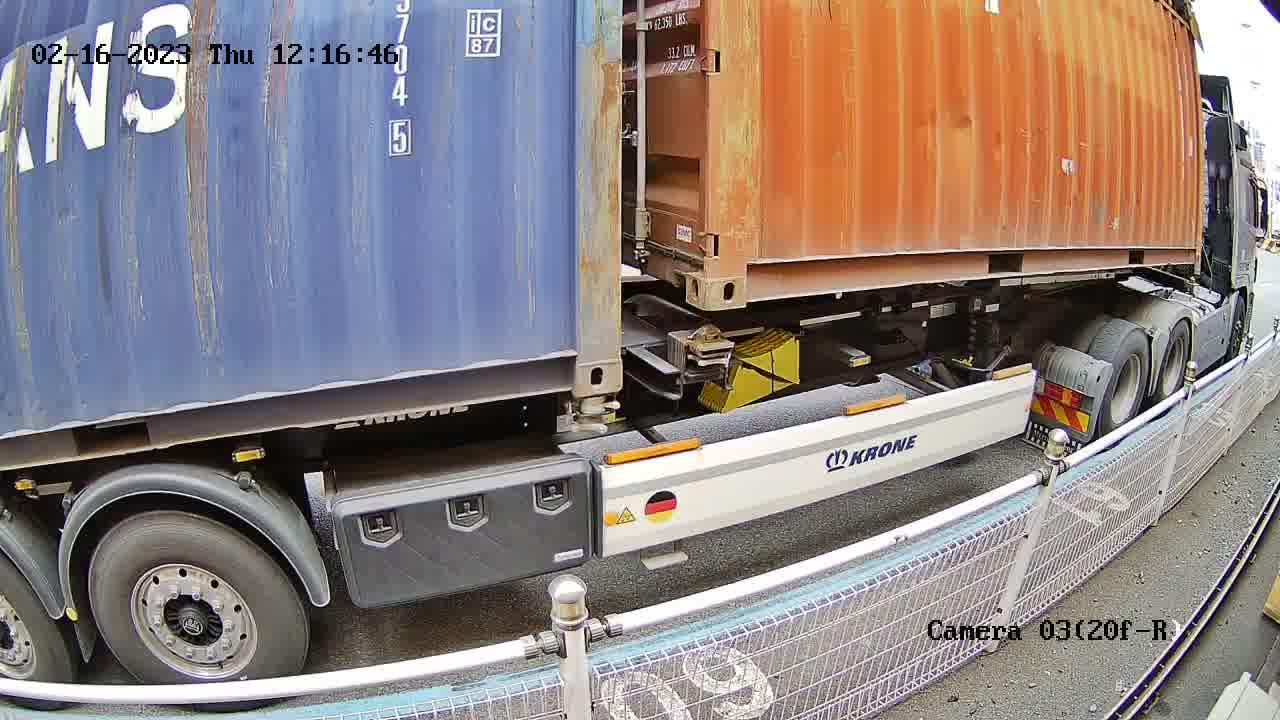Cone: (558, 395, 622, 435), (686, 323, 733, 368)
Hole_L: (708, 246, 770, 310)
Hole_R: (538, 312, 624, 399), (658, 221, 709, 313)
Tire: (92, 516, 302, 682), (1, 559, 70, 681), (1103, 337, 1153, 434), (1157, 324, 1191, 395)
